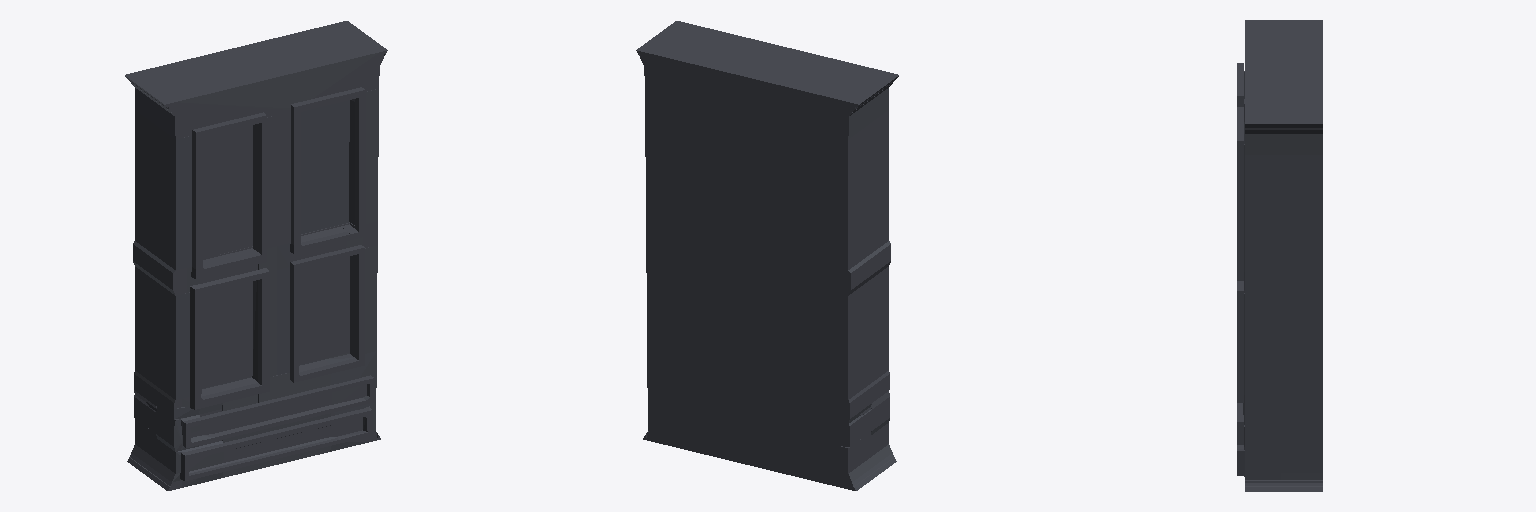
URDF robot description (../urdf/cabinet.urdf):
<?xml version="1.0" ?>
<robot name="../urdf/cabinet.urdf">
  <link name="baseLink">
    <inertial>
      <origin rpy="0 0 0" xyz="-0.0001 -0.0004 -0.0005"/>
       <mass value="50"/>
       <inertia ixx="4.4948499263142223e-08" ixy="-1.1135370310461391e-11" ixz="-2.223543654973939e-10" iyy="5.625716814709597e-08" iyz="-2.487398634015348e-10" izz="1.431659237992949e-08"/>
    </inertial>
    <visual>
      <origin rpy="0 0 0" xyz="-0.0001 -0.0004 -0.0005"/>
      <geometry>
        <mesh filename="../obj/cabinet.obj" 
		scale="25.0 25.0 25.0"/>
      </geometry>
     <material name="grey">
      <color rgba="0.32 0.33 0.36 1"/>
     </material>
    </visual>
    <collision>
      <origin rpy="0 0 0" xyz="-0.0001 -0.0004 -0.0005"/>
      <geometry>
        <mesh filename="../obj/cabinet.obj" scale="25.0 25.0 25.0"/>
      </geometry>
    </collision>
  </link>
</robot>
        

--- What the picture shows (computed from the rendered views, not written in the file) ---
The picture shows the robot from 3 angles, left to right: view 1: azimuth 30°, elevation 25°; view 2: azimuth 150°, elevation 25°; view 3: azimuth 270°, elevation 25°; orthographic projection.
Model ../urdf/cabinet.urdf with 1 links and 0 joints (none), rooted at baseLink, posed all joints at 0.
Visible links, largest first — view 1: baseLink; view 2: baseLink; view 3: baseLink.
Boxes of the visible links, x1,y1,x2,y2 form: baseLink: [125, 21, 387, 490]; baseLink: [636, 21, 898, 490]; baseLink: [1237, 20, 1322, 491].
Size in the robot's own frame: 1.31 by 0.4587 by 2.18 metres.
Meshes: 1 distinct files referenced, 1 mesh visuals loaded (1 OBJ).